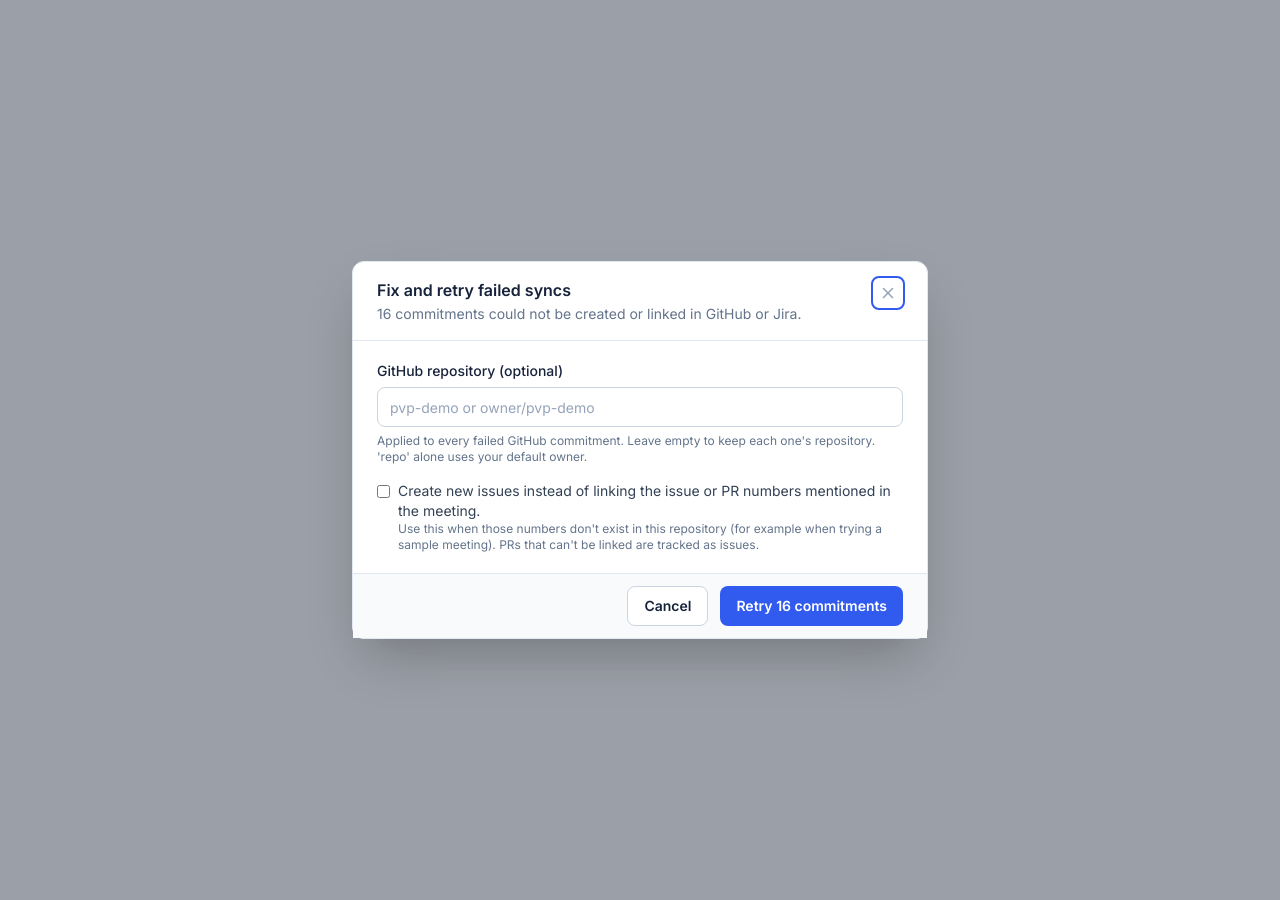
Scenario: RetryFailedModal › retries every failed commitment with the chosen repository and reports the outcome
This screenshot has width=1280, height=900.
Type "pvp-demo" into the field labelled "GitHub repository (optional)" at (640, 407), box [377,387,903,427]
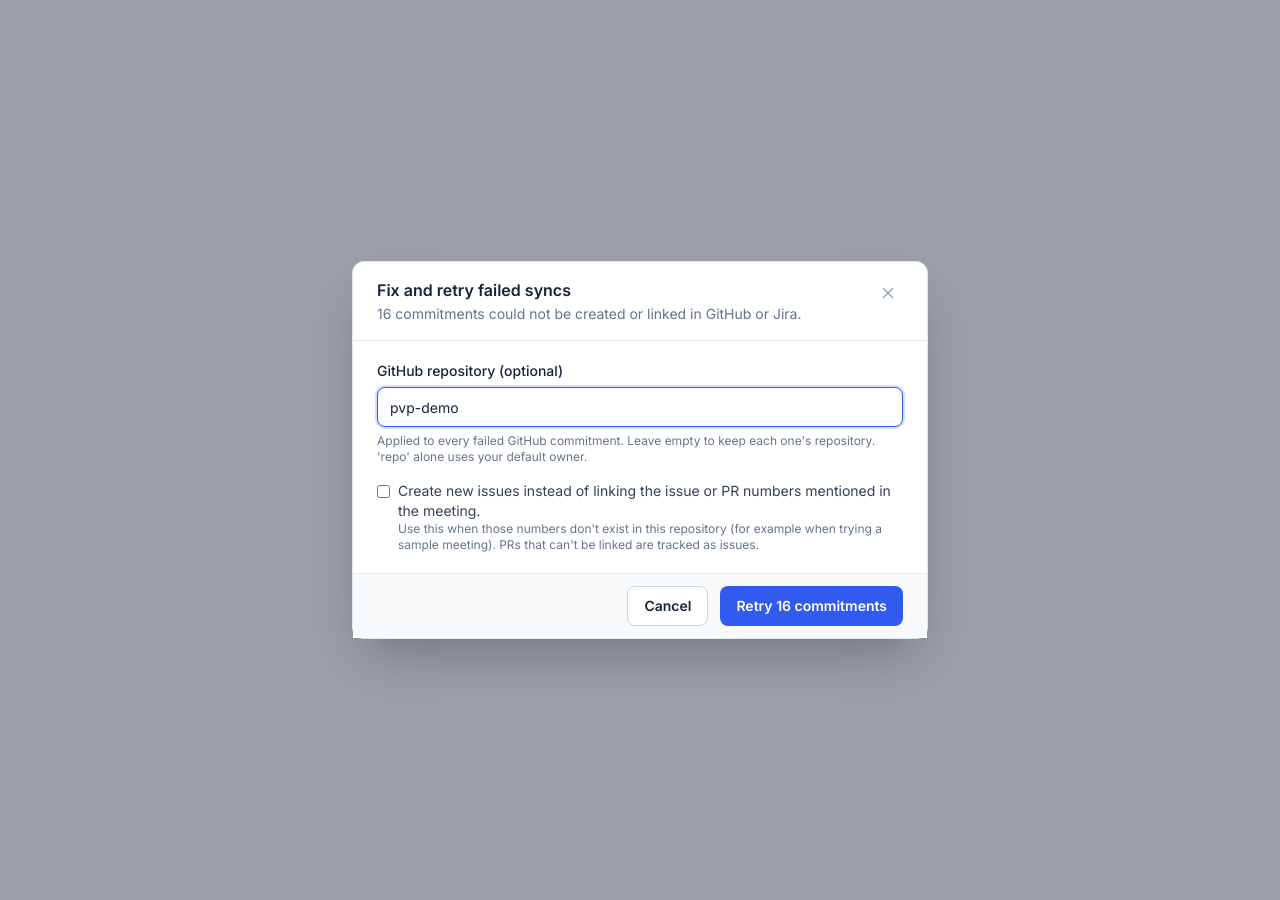
Click the checkbox at (384, 492), box [377,485,390,498]
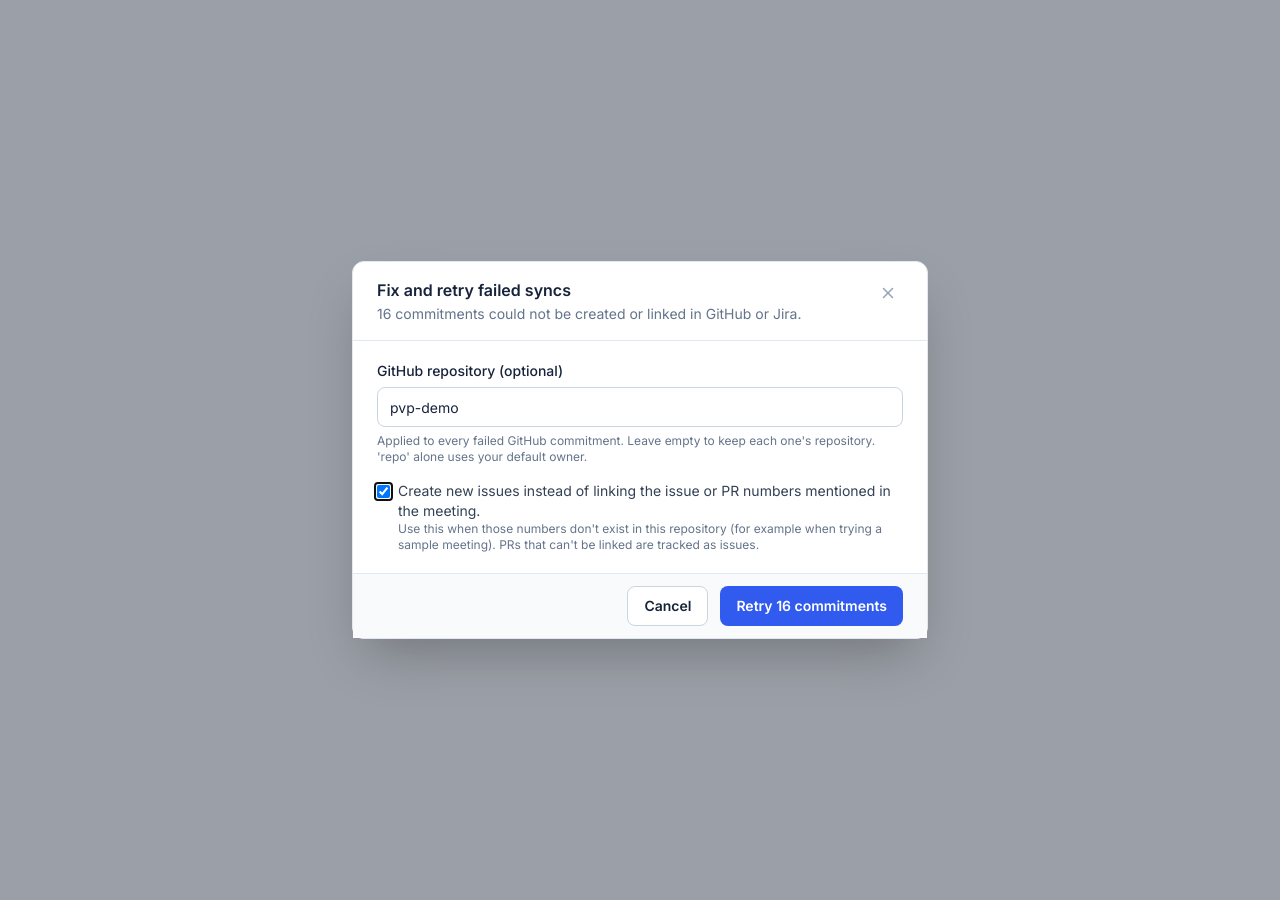
Click the button "Retry 16 commitments" at (812, 606), box [720,586,903,626]
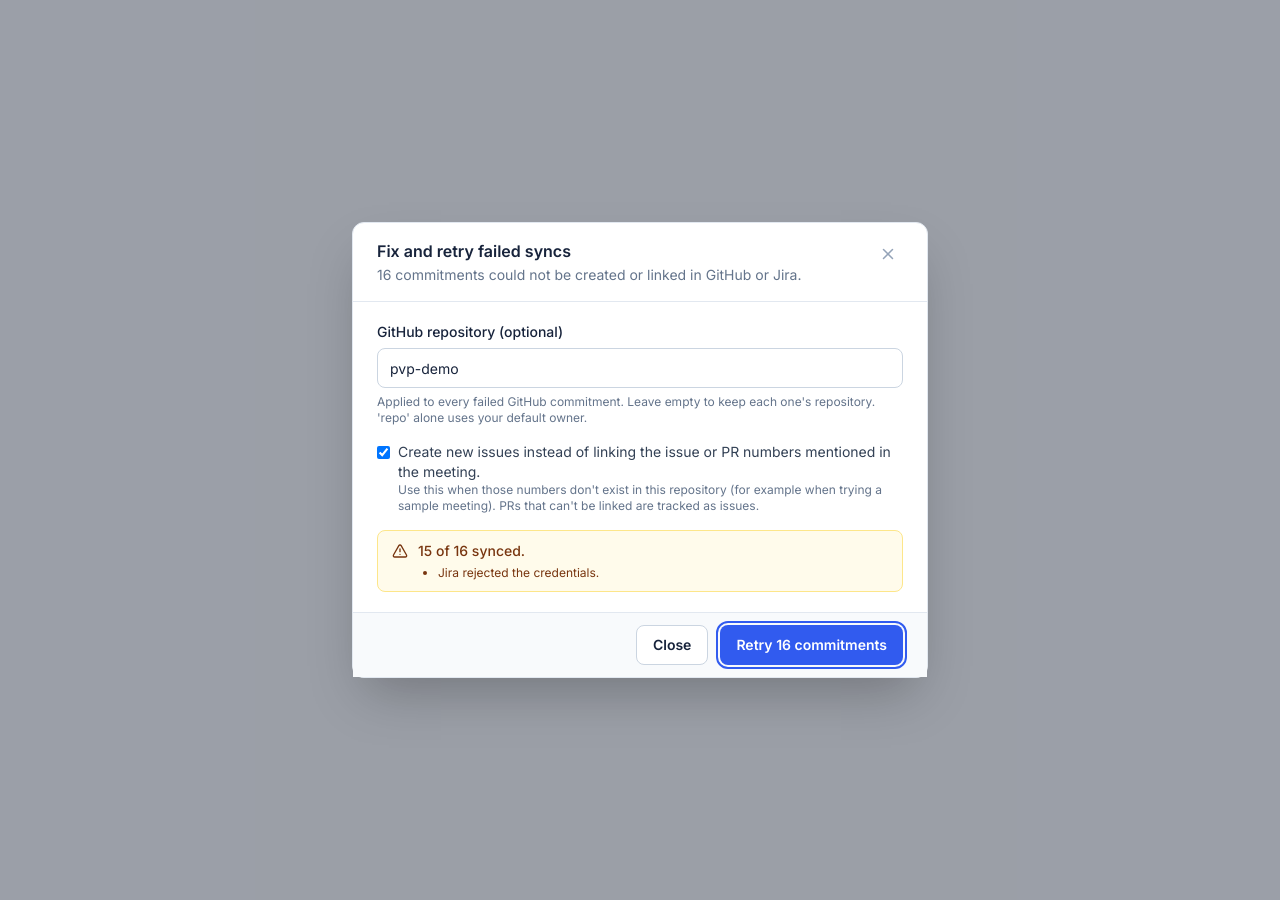
Check: the text "15 of 16 synced." is shown, box [418,542,525,559]
Check: the list item "Jira rejected the credentials." is shown, box [438,565,599,580]
